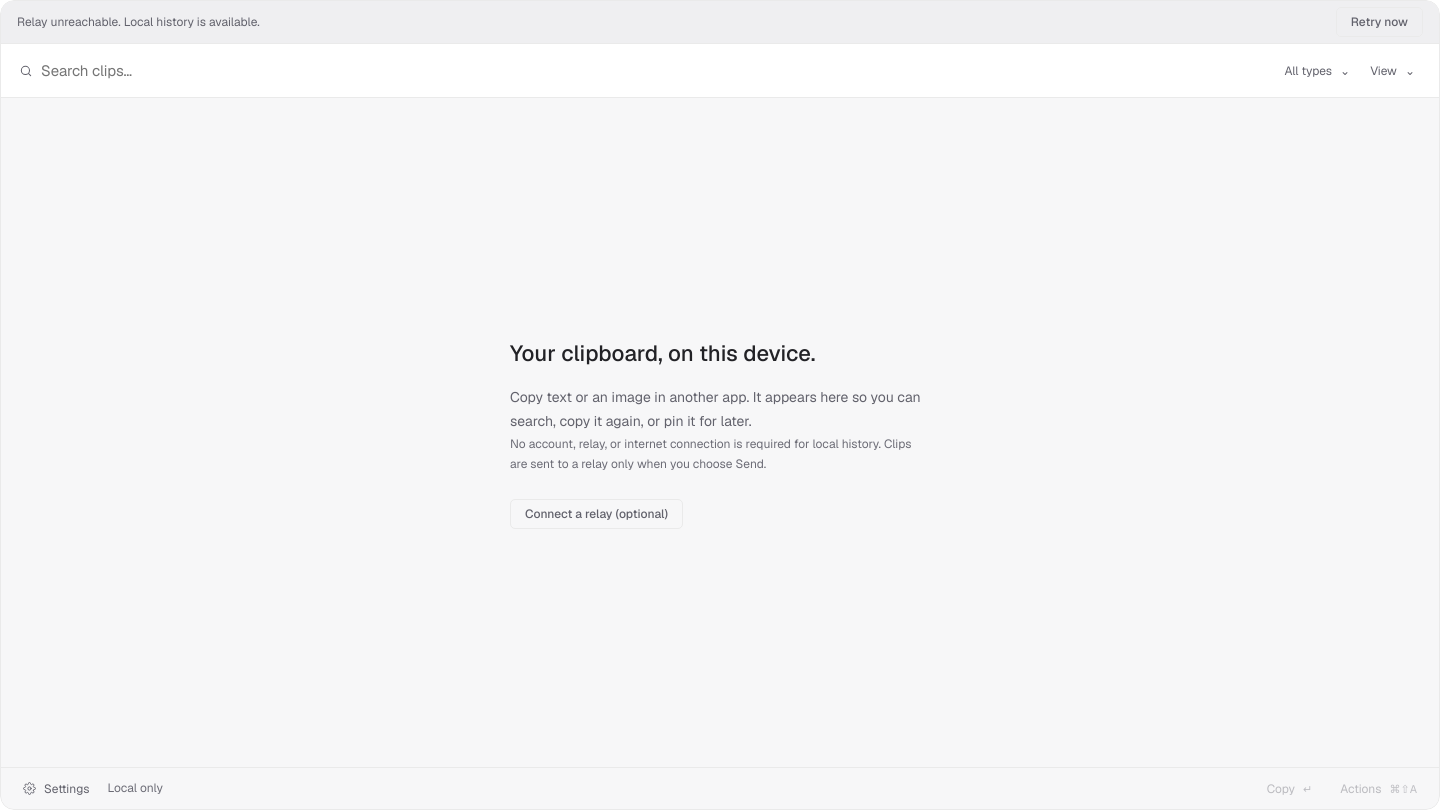
Test case: App › keeps the retry action usable after a failed relay retry
This screenshot has width=1440, height=810.
What coordinates should you click on to do the following:
click the button "Retry now"
I would click on:
 (1379, 22)
Its box is [1336,7,1423,37].
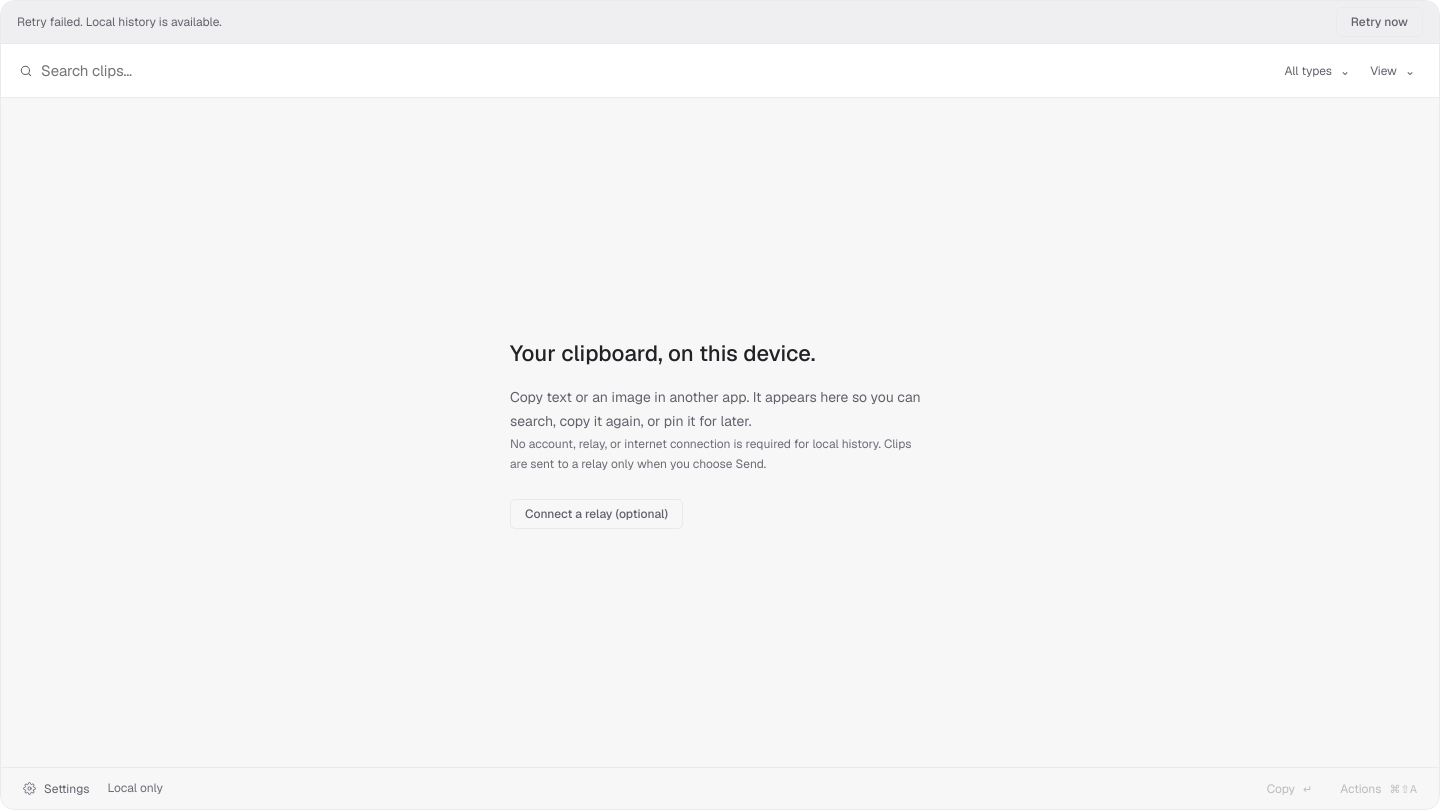
Expected: the field labelled "Search clips" is shown, [41,61,1270,80]
Now the text "Retry failed. Local history is available." is shown, box [17,13,222,31]
